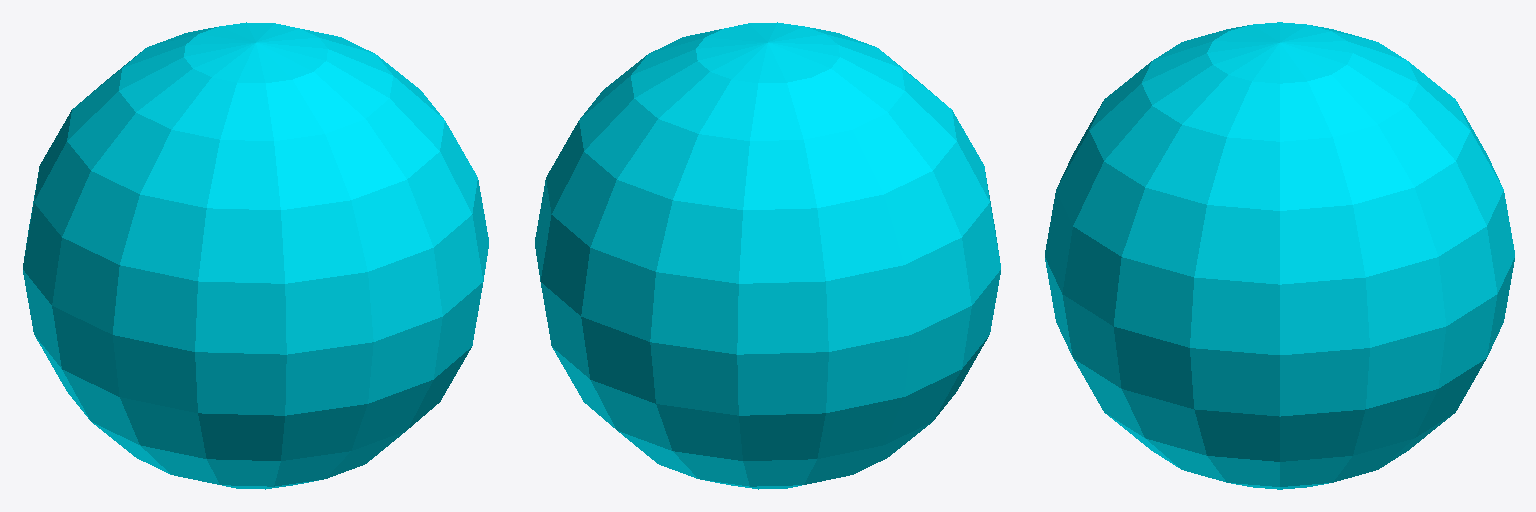
Rendered from flat_sphere.obj.
The picture shows the model from 3 angles: view 1: azimuth 30°, elevation 25°; view 2: azimuth 150°, elevation 25°; view 3: azimuth 270°, elevation 25°; orthographic projection.
Visible parts, largest first — view 1: Sphere; view 2: Sphere; view 3: Sphere.
Boxes of the visible parts, <box> form: Sphere: <box>23,22,488,489</box>; Sphere: <box>535,22,1000,489</box>; Sphere: <box>1045,22,1514,489</box>.
Size of the model in its own units: 2 by 2 by 2.